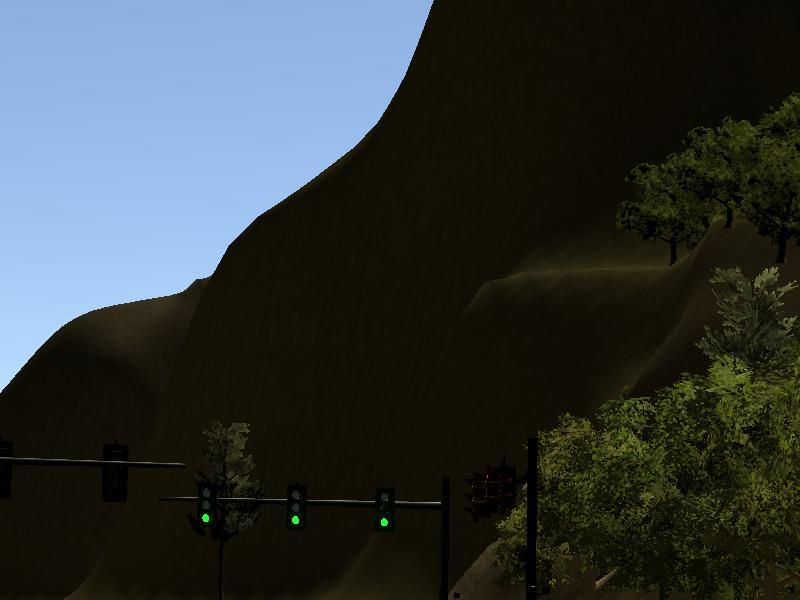Green: (377, 477, 394, 533), (196, 479, 213, 530), (288, 483, 305, 533)
